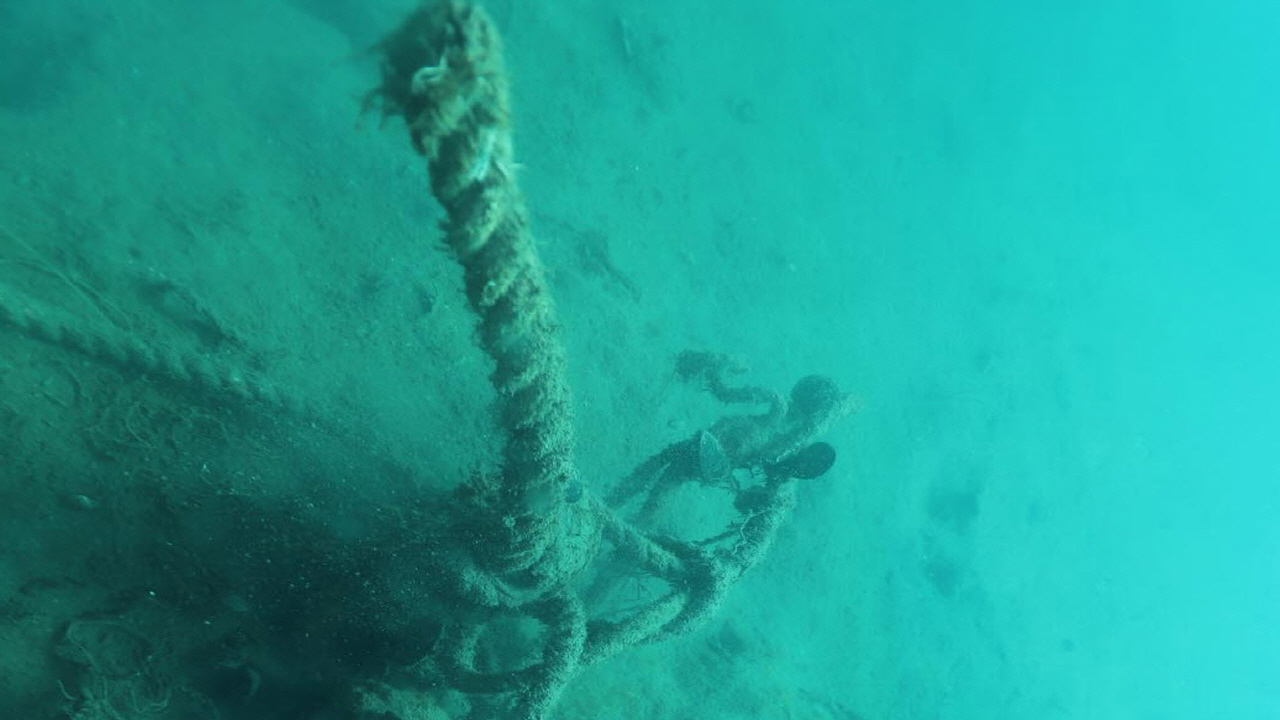bundle of ropes: (0, 3, 840, 720)
